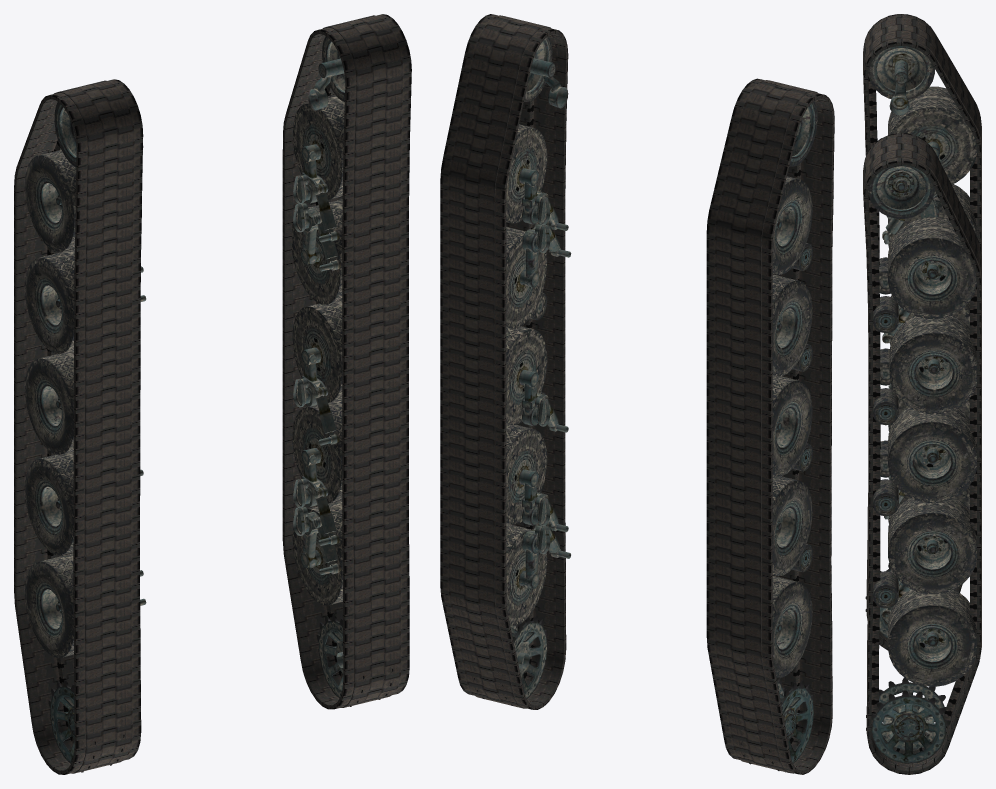
File: Chassis.glb
3 views of the same model, side by side, from view 1: azimuth 30°, elevation 25°; view 2: azimuth 150°, elevation 25°; view 3: azimuth 270°, elevation 25° (orthographic). The views are drawn at different scales.
Parts seen in each view (by area): view 1: set_1_group_0, set_0_group_0, set_3_group_0, set_2_group_0; view 2: set_1_group_0, set_0_group_0, set_3_group_0, set_2_group_0; view 3: set_3_group_0, set_0_group_0, set_2_group_0, set_1_group_0.
Boxes of the visible parts, <box> form: set_1_group_0: <box>14,79,143,774</box>; set_0_group_0: <box>282,14,411,709</box>; set_3_group_0: <box>292,36,393,706</box>; set_2_group_0: <box>25,102,146,772</box>; set_1_group_0: <box>706,78,834,774</box>; set_0_group_0: <box>440,14,568,709</box>; set_3_group_0: <box>474,36,571,705</box>; set_2_group_0: <box>740,101,817,772</box>; set_3_group_0: <box>866,165,976,763</box>; set_0_group_0: <box>863,133,981,774</box>; set_2_group_0: <box>865,46,977,638</box>; set_1_group_0: <box>863,14,981,650</box>.
Size of the model in its own units: 3.36 by 6.55 by 1.15.
4 materials, 4 textured.
